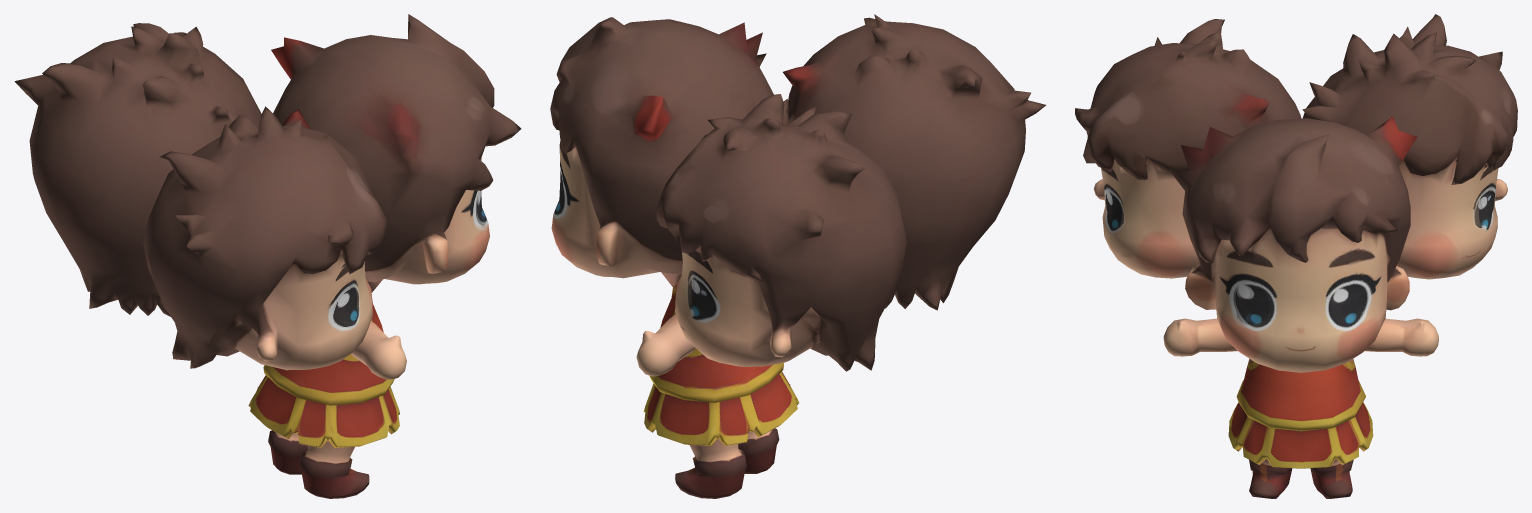
3 renders of one model, left to right at view 1: azimuth 30°, elevation 25°; view 2: azimuth 150°, elevation 25°; view 3: azimuth 270°, elevation 25°, orthographic. The views are drawn at different scales.
Parts seen in each view (by area): view 1: tripo_node_04323503-a624-4c57-80c1-52d65faa3937; view 2: tripo_node_04323503-a624-4c57-80c1-52d65faa3937; view 3: tripo_node_04323503-a624-4c57-80c1-52d65faa3937.
Boxes of the visible parts, <box> form: tripo_node_04323503-a624-4c57-80c1-52d65faa3937: <box>14,14,521,498</box>; tripo_node_04323503-a624-4c57-80c1-52d65faa3937: <box>550,14,1046,498</box>; tripo_node_04323503-a624-4c57-80c1-52d65faa3937: <box>1075,14,1517,498</box>.
Size of the model in its own units: 0.9434 by 0.998 by 0.9746.
Materials: 1 (1 with a texture image).
